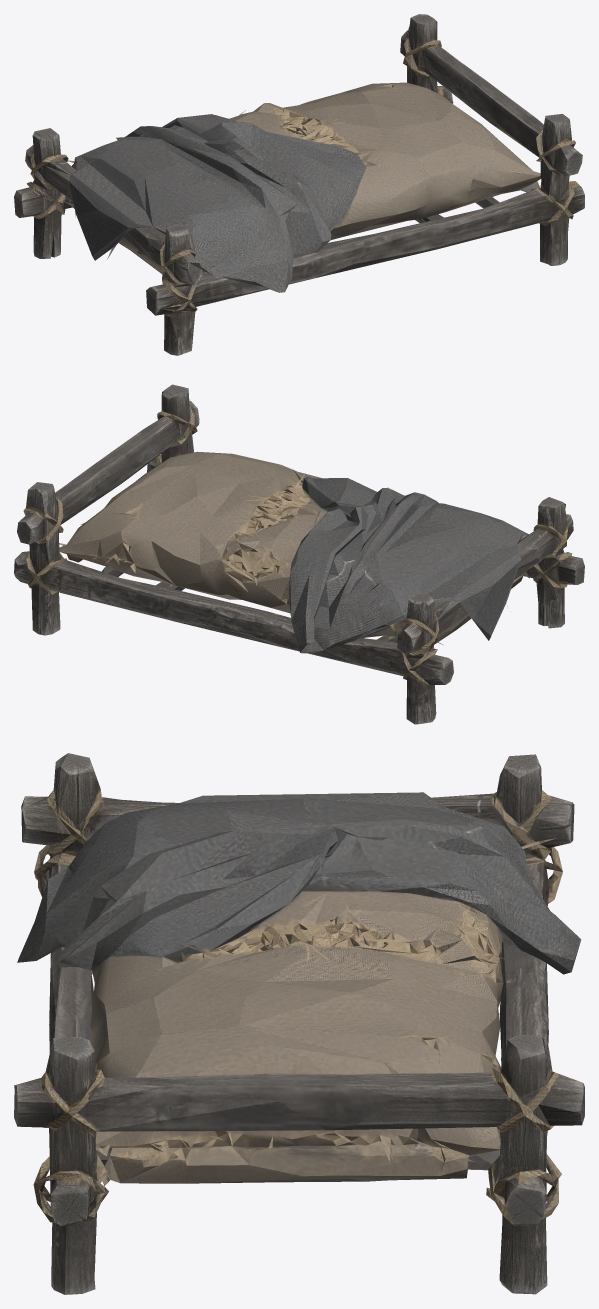
Rendered from bed.fbx.
The picture shows the model from 3 angles, top to bottom: view 1: azimuth 30°, elevation 25°; view 2: azimuth 150°, elevation 25°; view 3: azimuth 270°, elevation 25°; orthographic projection. The views are drawn at different scales.
Parts seen in each view (by area): view 1: output_unwrapped; view 2: output_unwrapped; view 3: output_unwrapped.
Part boxes in pixels (left/top/right/bottom): output_unwrapped: left=14, top=14, right=584, bottom=355; output_unwrapped: left=14, top=384, right=584, bottom=724; output_unwrapped: left=14, top=753, right=584, bottom=1294.
Size of the model in its own units: 189 by 60.98 by 127.
1 material, 1 textured.
